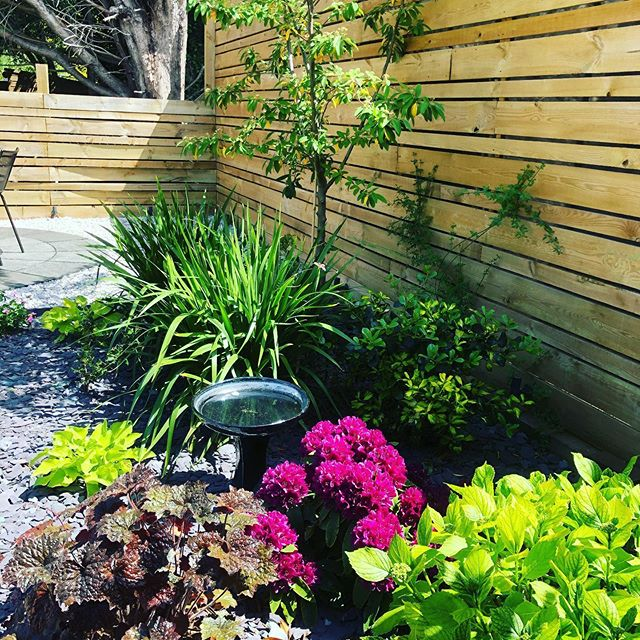flowers: (254, 414, 436, 607)
tree: (194, 1, 457, 270)
vegetation: (1, 232, 633, 640)
